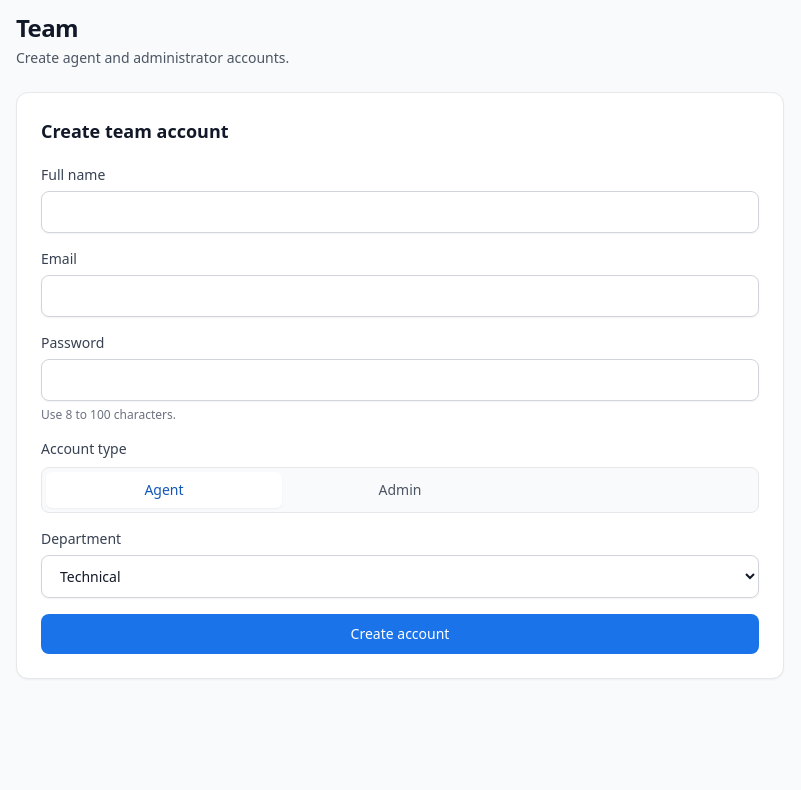
Scenario: TeamPage › composes team creation and a dismissible success notice
Expected: the heading "Team" is shown, [16,11,78,44]
Expected: the text "Create agent and administrator accounts." is shown, [16,48,289,67]
Type "Riley Agent" into the field labelled "Full name" at {"x": 400, "y": 212}, box [41,191,759,233]
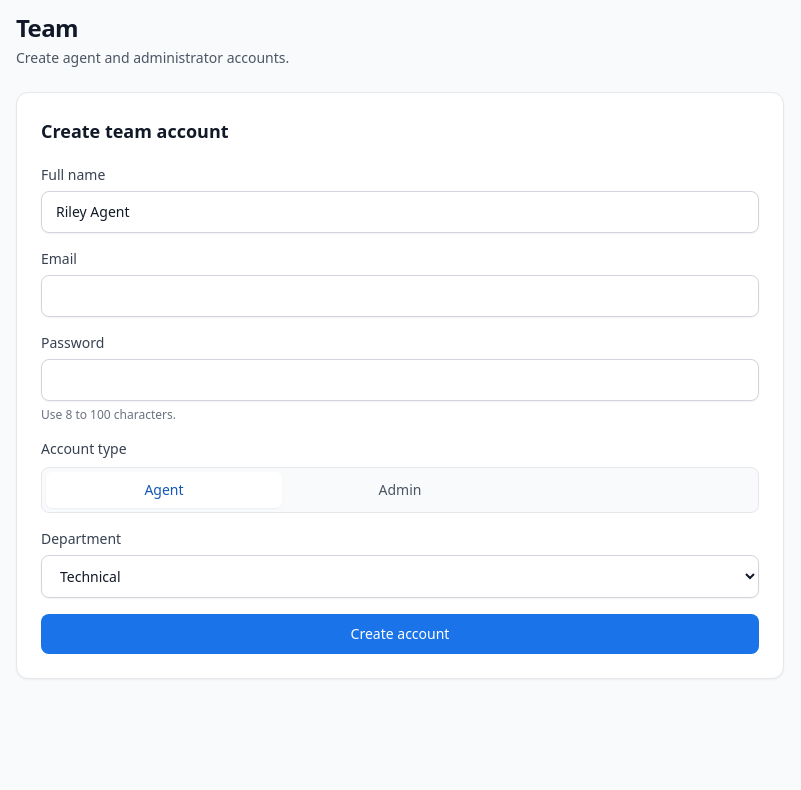
Type "riley@example.com" into the field labelled "Email" at {"x": 400, "y": 296}, box [41,275,759,317]
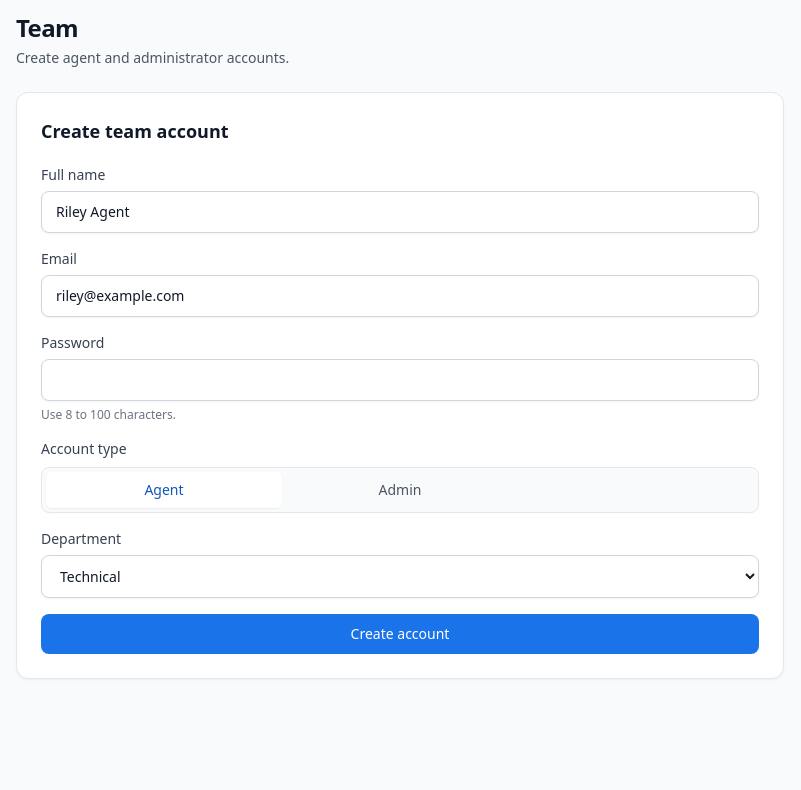
Type "Password123" into the password field labelled "Password" at {"x": 400, "y": 380}, box [41,359,759,401]
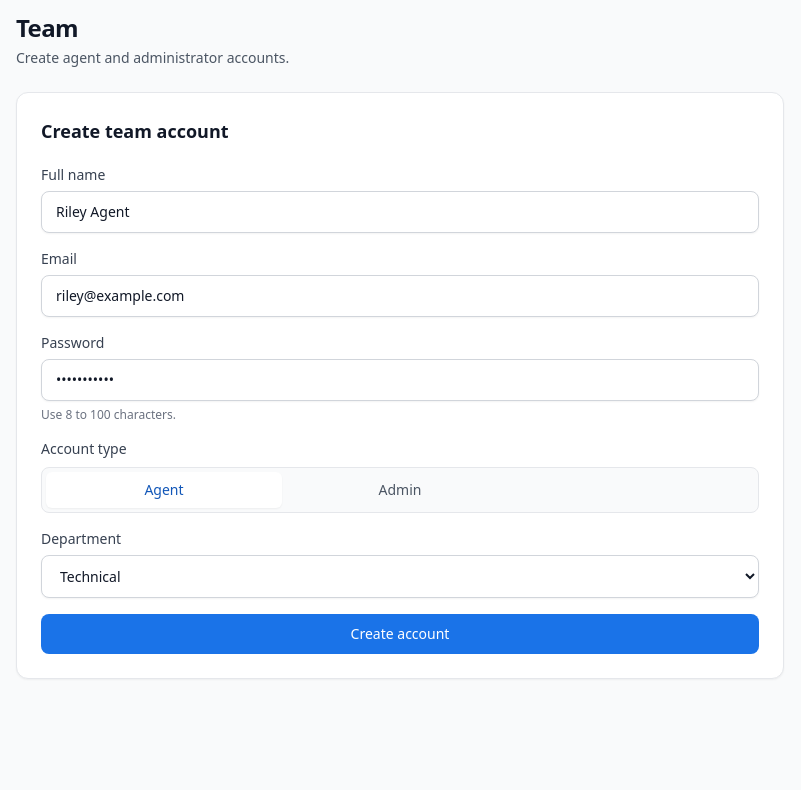
Click the button "Create account" at {"x": 400, "y": 634}, box [41,614,759,654]
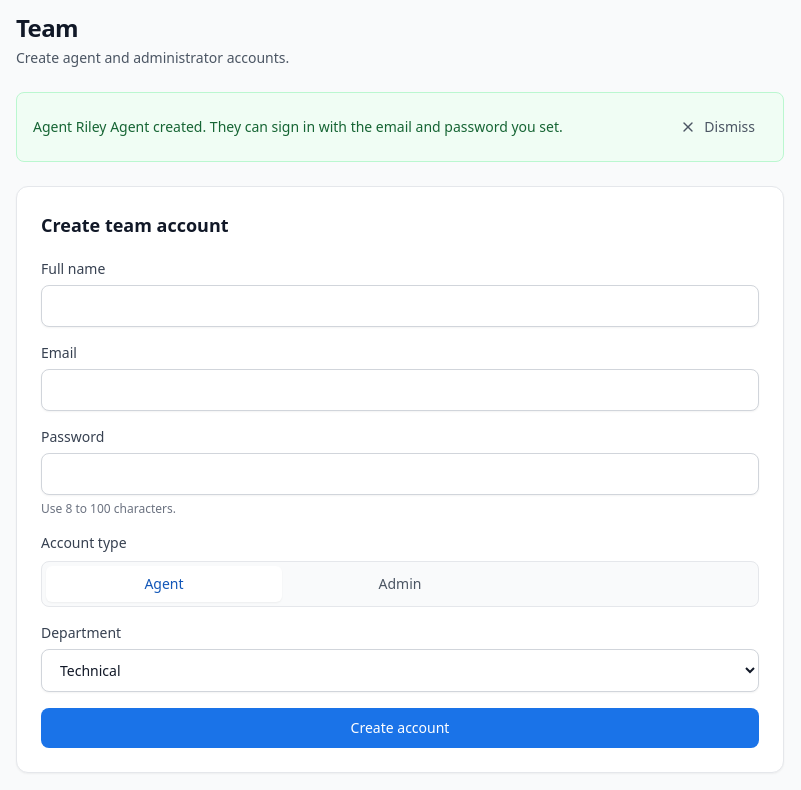
Now the text "Agent Riley Agent created. They can sign in with the email and password you set." is shown, box [33,117,563,137]
Click the button with aria-label "Dismiss notice" at {"x": 718, "y": 127}, box [668,109,767,145]
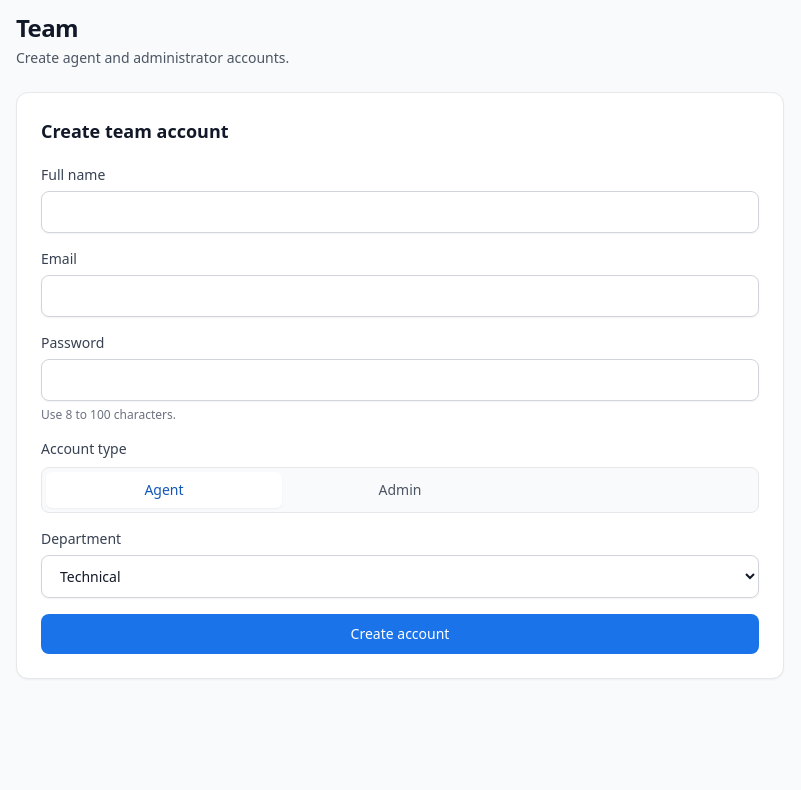
Now the message is gone
